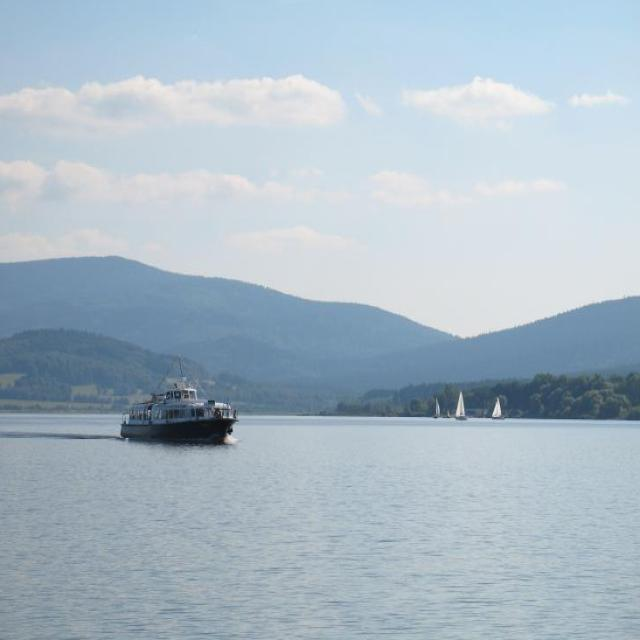passenger ship: (107, 355, 245, 452)
